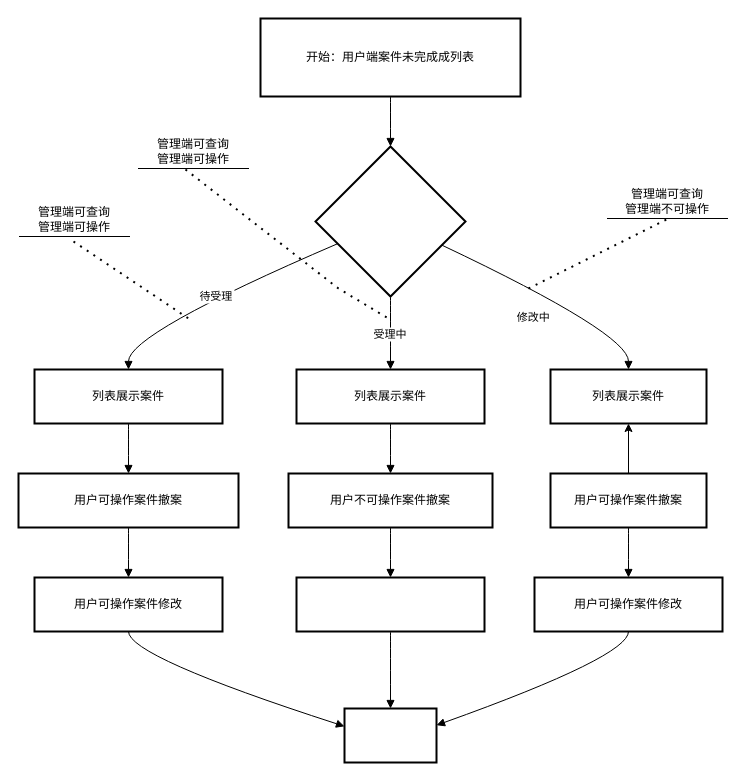
Some shapes in this 745 by 780 pixel diagram are drawn without their labels. The shapes that lost their labels are listed below. From the top down, each one's centre as x and y in pixels, then its label:
At point 390,221: "检查案件状态".
At point 390,604: "用户不可操作案件修改".
At point 390,735: "结束".
